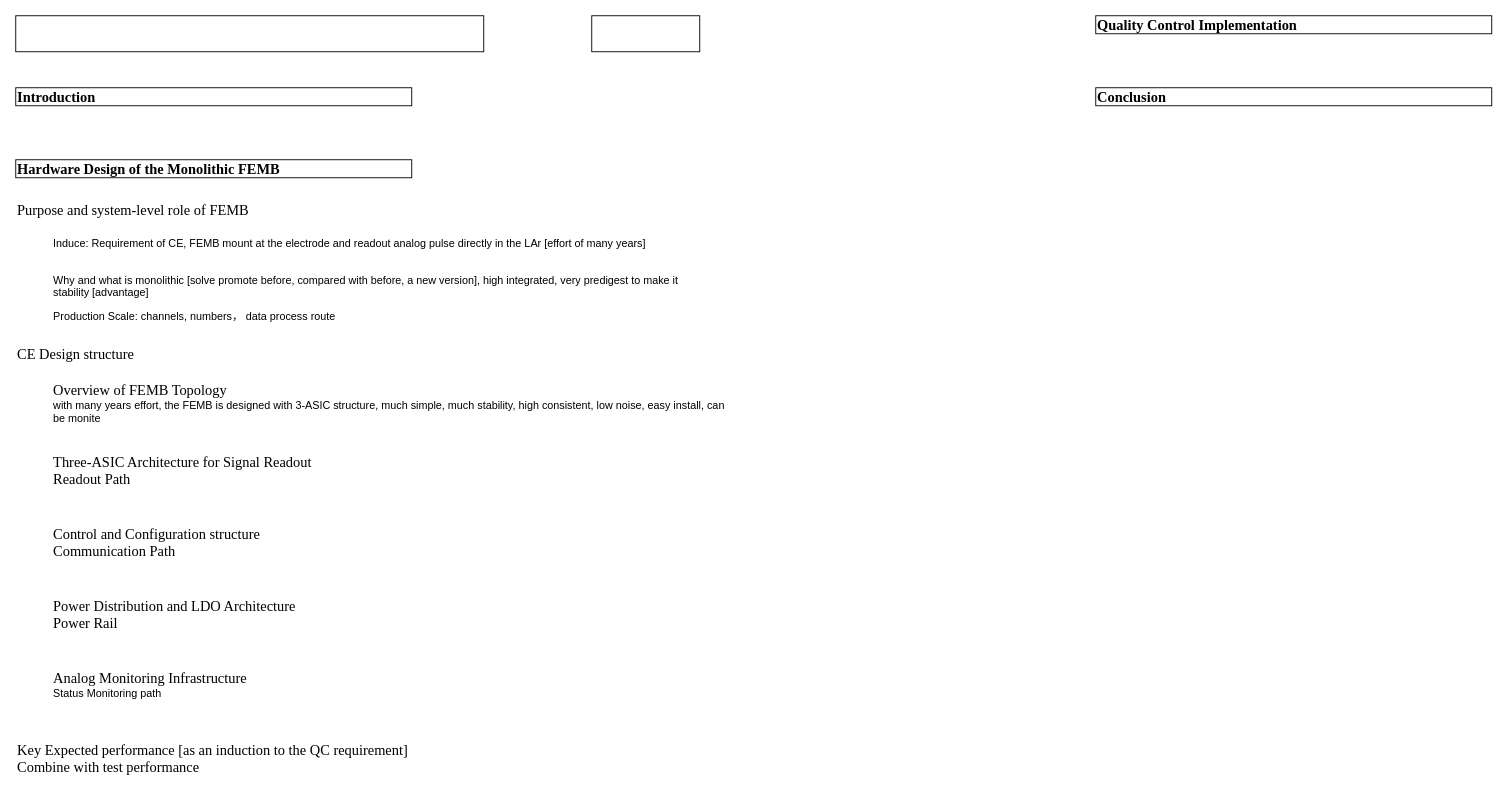
This 1508x792 diagram has some shape labels left out. The shapes that lost their labels are listed below. From the top down, each one's centre as x and y in pixels, then its label:
the point at 249,33: Production Strategy for Cryogenic Readout Electronics in DUNE
the point at 645,33: Abstract
